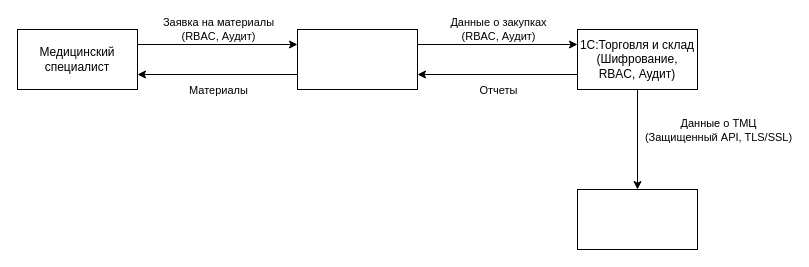
This 809x267 diagram has some shape labels left out. The shapes that lost their labels are listed below. From the top down, each one's centre as x and y in pixels, then its label:
At pixel 357 59: "Сотрудник склада".
At pixel 637 219: "1С:Бухгалтерия предприятия (Шифрование, RBAC, Аудит)".
